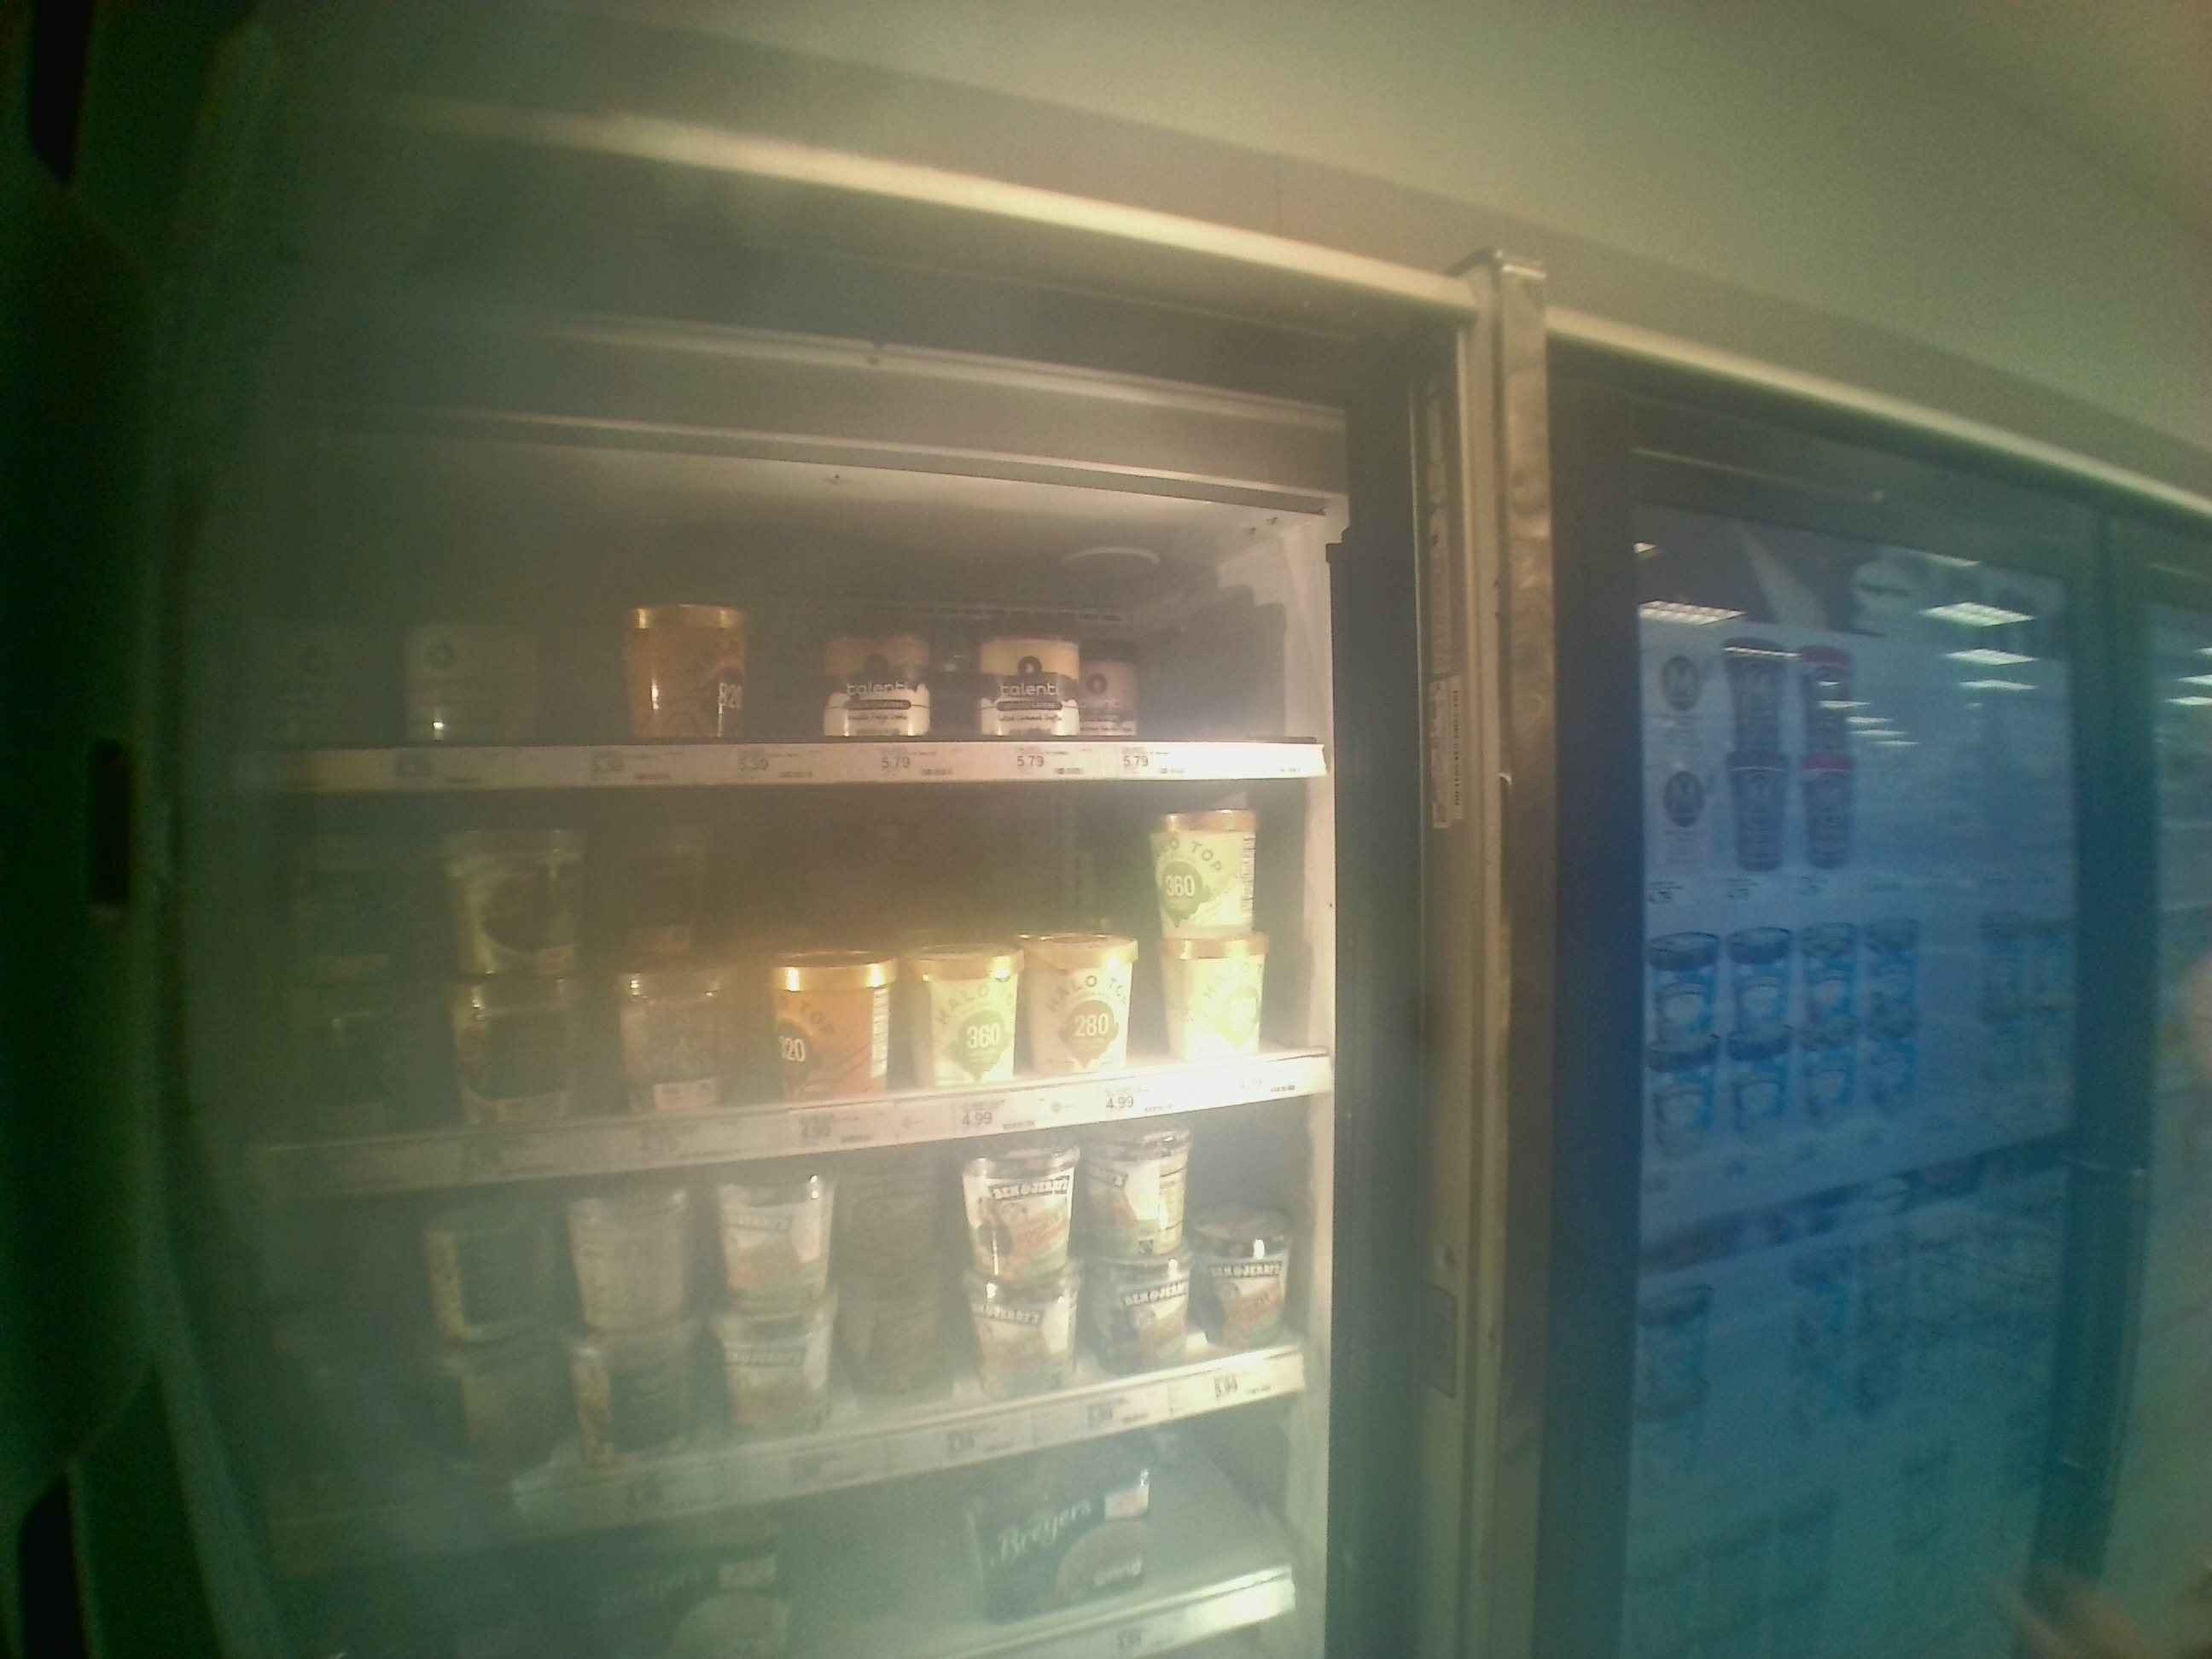shelf: (223, 788, 1345, 1220), (239, 413, 1332, 784)
